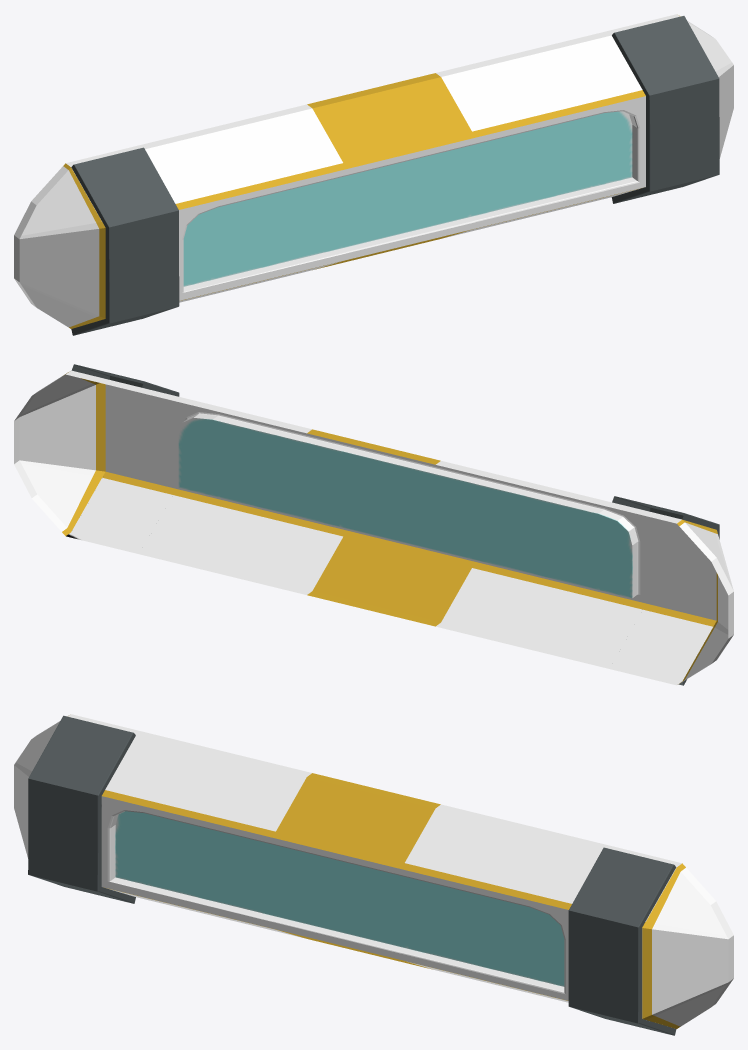
Rendered from Prop_wallLight.fbx.
The picture shows the model from 3 angles, top to bottom: view 1: azimuth 30°, elevation 25°; view 2: azimuth 150°, elevation 25°; view 3: azimuth 330°, elevation 25°; orthographic projection.
Parts seen in each view (by area): view 1: light; view 2: light; view 3: light.
Part boxes in pixels (bbox=[...]): light: bbox=[14, 14, 733, 335]; light: bbox=[14, 364, 733, 685]; light: bbox=[14, 714, 733, 1035].
Size of the model in its own units: 9.95 by 94.42 by 21.72.
